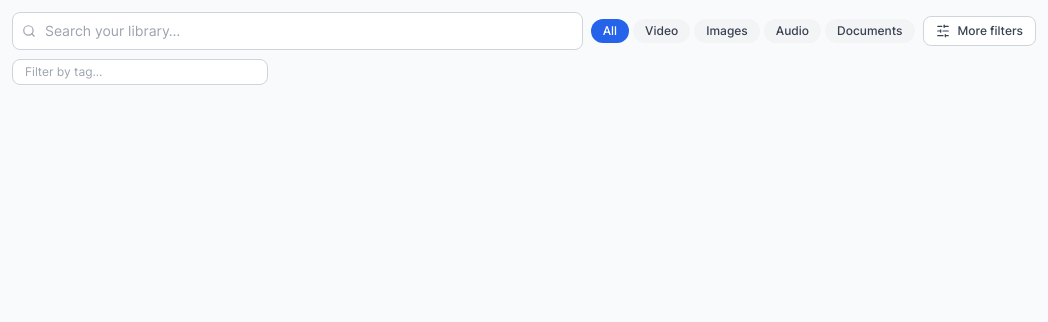
Scenario: FilterBar › shows an active filter as a chip even while its panel is folded away
Click the button "More filters".
click(979, 31)  # box [922,16,1036,46]
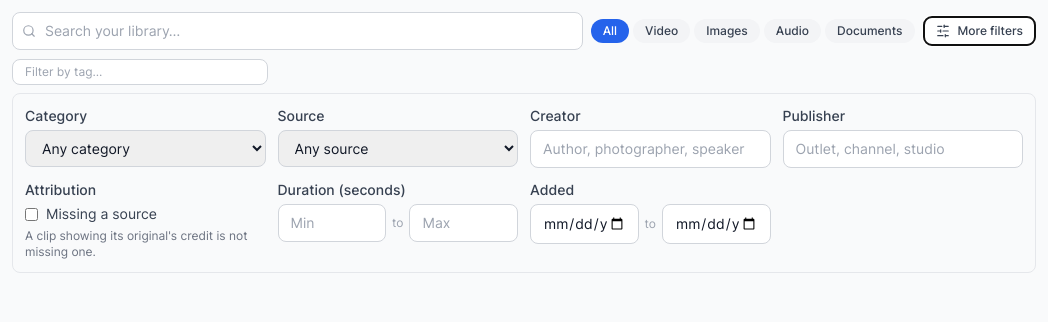
Select "AI generated" in the dropdown labelled "Source" at (398, 148), box [278,130,518,167]
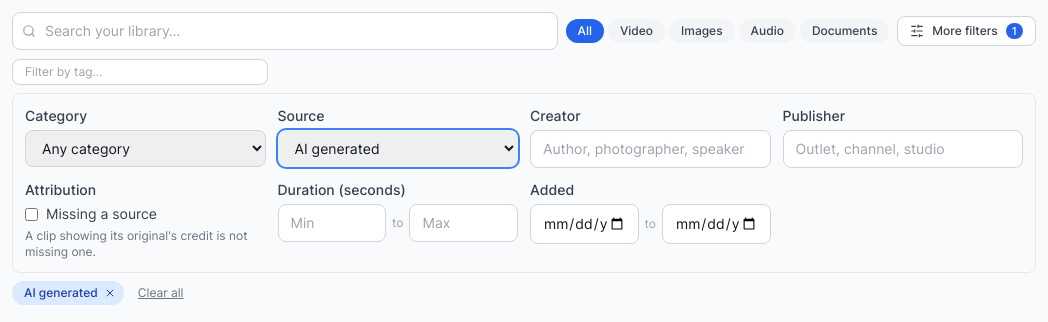
Click the button "More filters 1".
click(967, 31)  # box [897,16,1036,46]
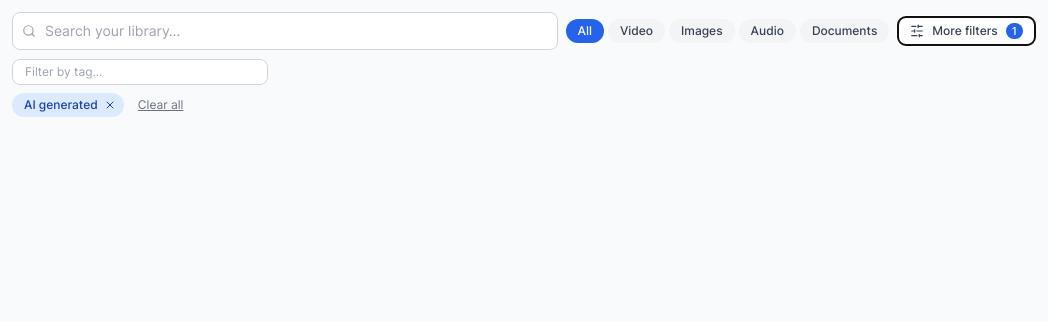
expect the button named "Clear AI generated" is shown: met, box [102,97,118,113]
expect the label labelled "Source" is gone: met
